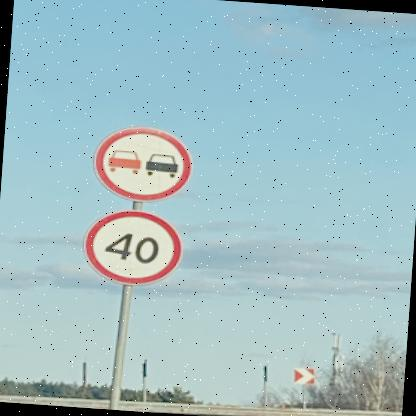speedlimit: (78, 204, 182, 286)
